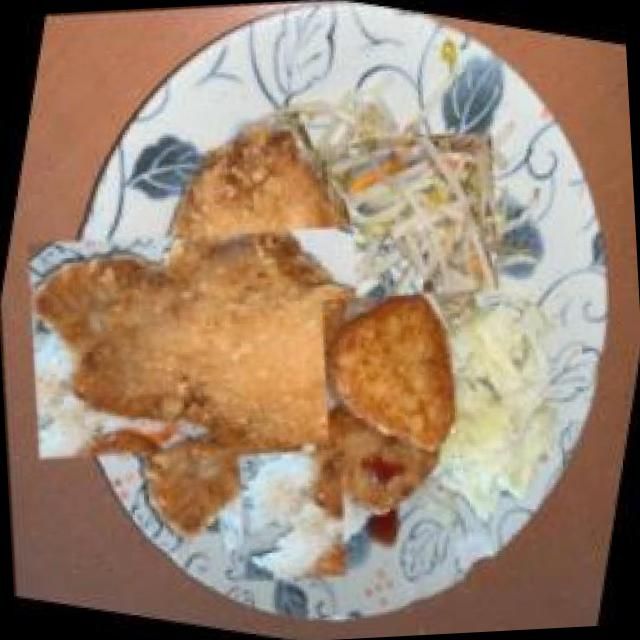chinese_cabbage: (406, 282, 592, 540)
fried_chicken: (2, 116, 450, 564)
mung_bean_sprouts: (314, 99, 533, 328)
rice: (206, 430, 377, 602)
triangle_hash_brown: (276, 266, 492, 540)
